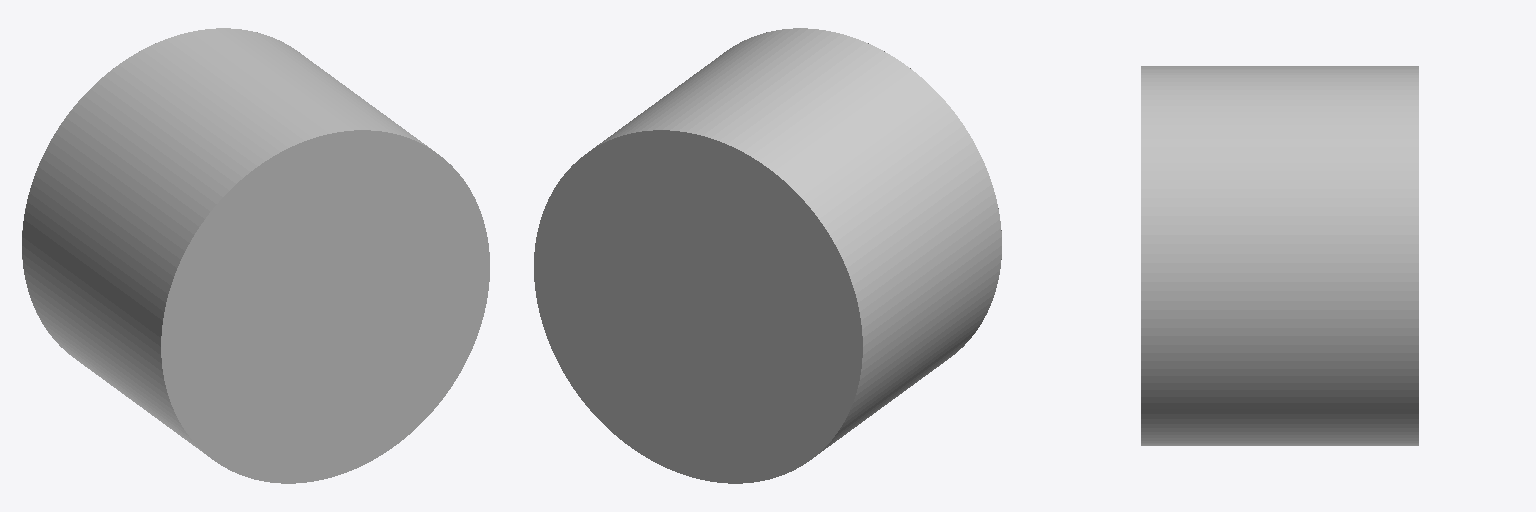
File: Peg.obj
The picture shows the model from 3 angles: view 1: azimuth 30°, elevation 25°; view 2: azimuth 150°, elevation 25°; view 3: azimuth 270°, elevation 25°; orthographic projection.
Parts seen in each view (by area): view 1: Peg; view 2: Peg; view 3: Peg.
Part boxes in pixels (x1,y1,x2,y2): Peg: (22,28,489,483); Peg: (534,28,1001,483); Peg: (1141,66,1418,445).
Size of the model in its own units: 150 by 150 by 110.